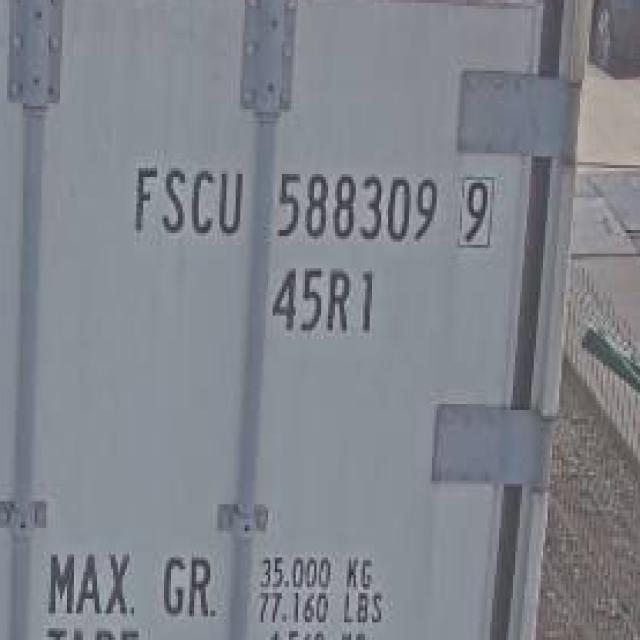dv: (452, 170, 502, 254)
owner: (122, 156, 248, 247)
serial: (273, 164, 443, 252)
size: (263, 258, 386, 342)
